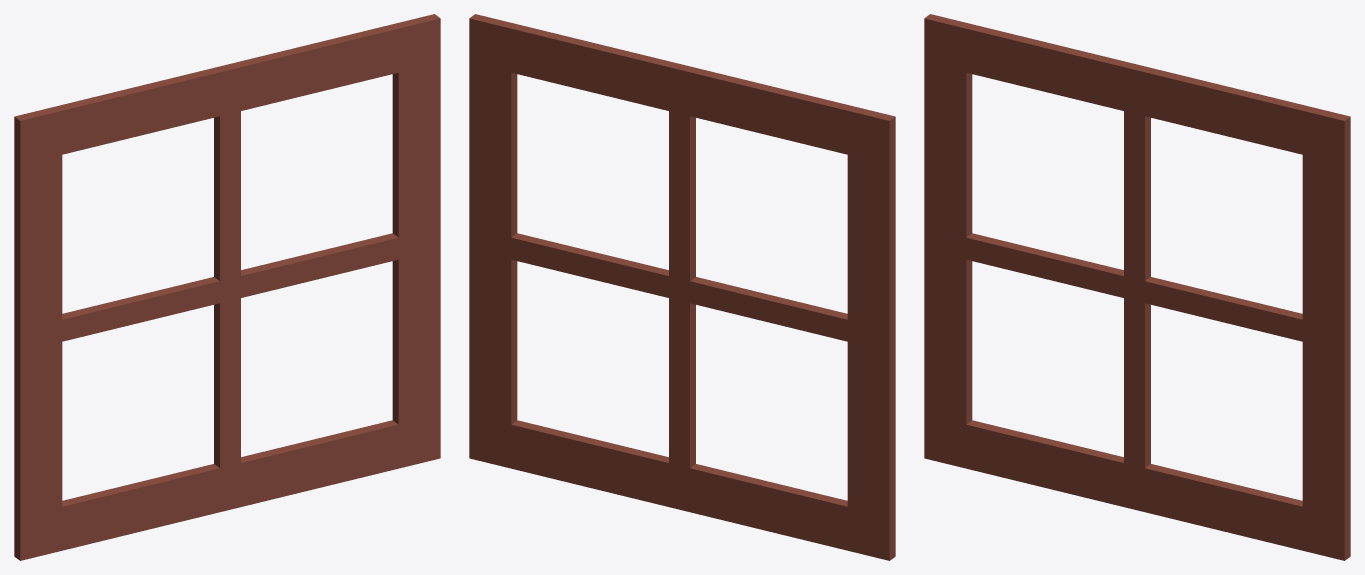
Rendered from WindowFrame2.fbx.
The picture shows the model from 3 angles, left to right: view 1: azimuth 30°, elevation 25°; view 2: azimuth 150°, elevation 25°; view 3: azimuth 330°, elevation 25°; orthographic projection.
Visible parts, largest first — view 1: Cube.001; view 2: Cube.001; view 3: Cube.001.
Boxes of the visible parts, x1,y1,x2,y2 form: Cube.001: (14,14,440,560); Cube.001: (469,14,895,560); Cube.001: (924,14,1350,560).
Size of the model in its own units: 400 by 400 by 10.
